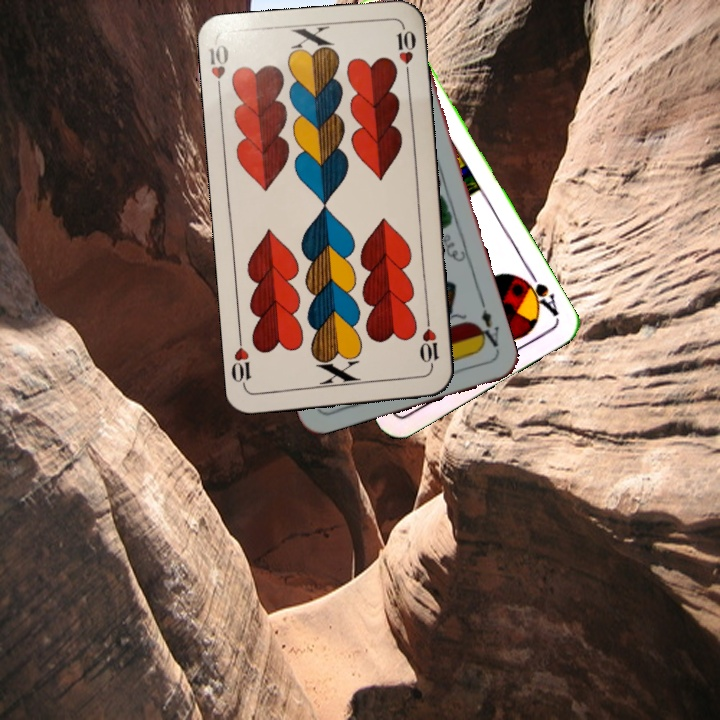EA: (472, 305, 502, 355)
H10: (205, 40, 232, 99), (416, 314, 442, 373)
SA: (515, 266, 562, 319)
